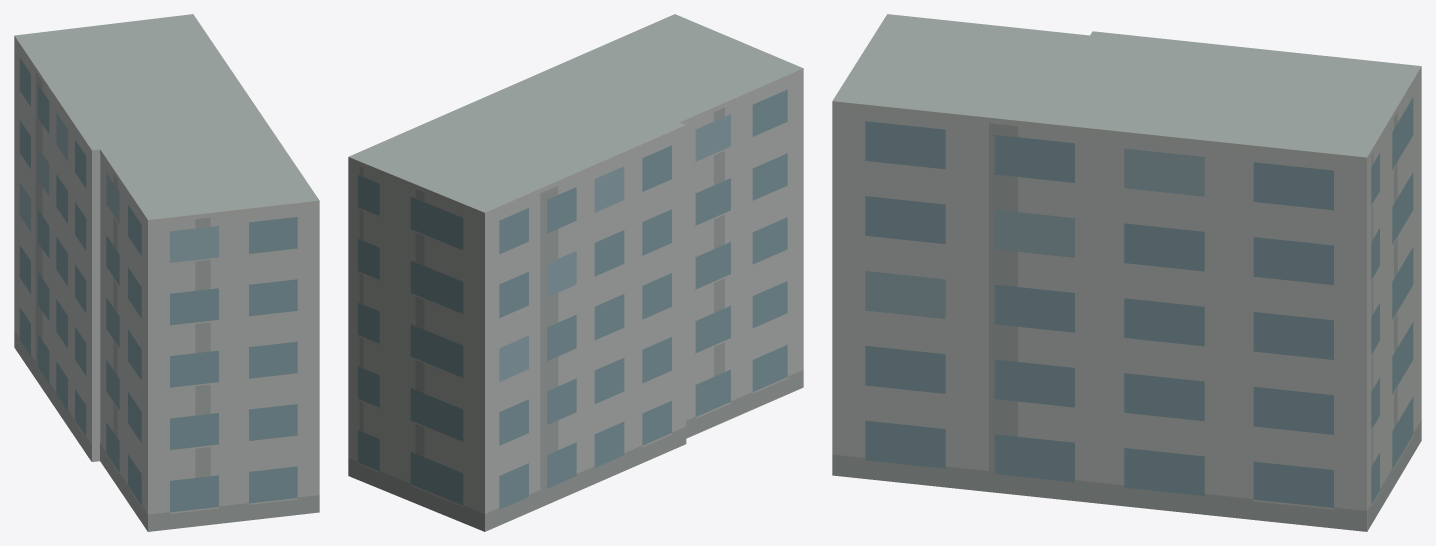
Rendered from survey-upis-32922520.glb.
The picture shows the model from 3 angles, left to right: view 1: azimuth 30°, elevation 25°; view 2: azimuth 150°, elevation 25°; view 3: azimuth 270°, elevation 25°; orthographic projection. The views are drawn at different scales.
Parts seen in each view (by area): view 1: survey-upis-32922520.tmp; view 2: survey-upis-32922520.tmp; view 3: survey-upis-32922520.tmp.
Part boxes in pixels (x1=…): survey-upis-32922520.tmp: x1=14, y1=14, x2=319, y2=531; survey-upis-32922520.tmp: x1=348, y1=14, x2=803, y2=531; survey-upis-32922520.tmp: x1=832, y1=14, x2=1421, y2=531.
Bounding box in the file's own units: 13.62 × 16.55 × 23.63.
